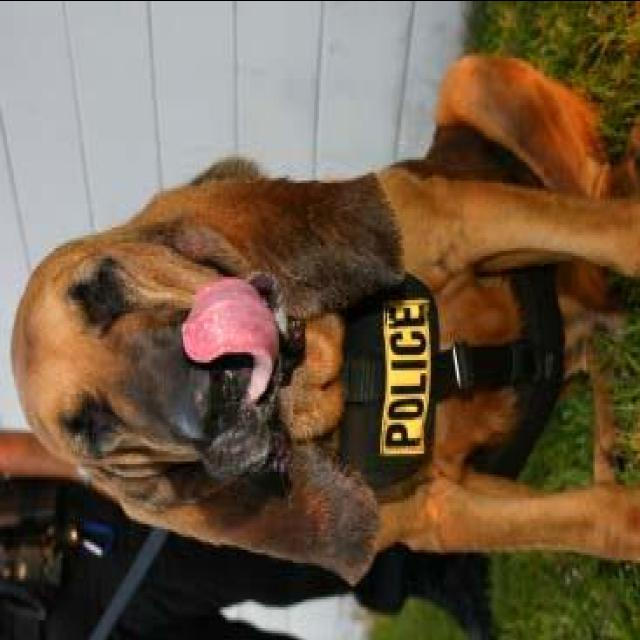bloodhound: (6, 49, 638, 594)
